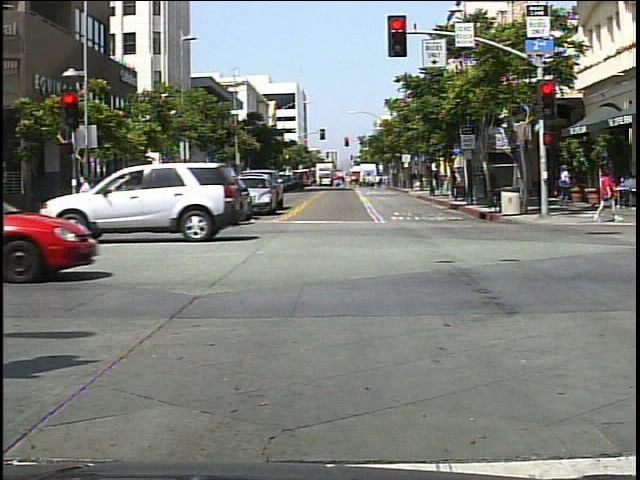person: (592, 167, 624, 229), (555, 162, 578, 213), (76, 172, 99, 197)
